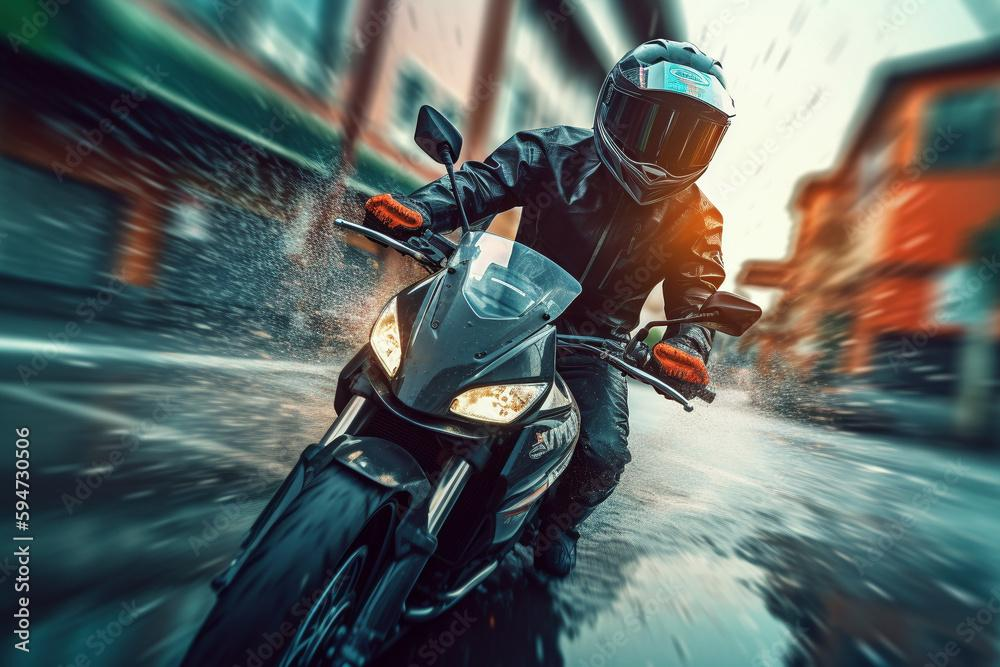helmet: (591, 37, 737, 208)
